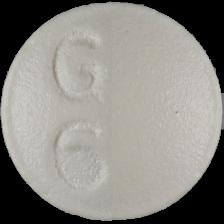68084-972: (0, 0, 224, 224)
